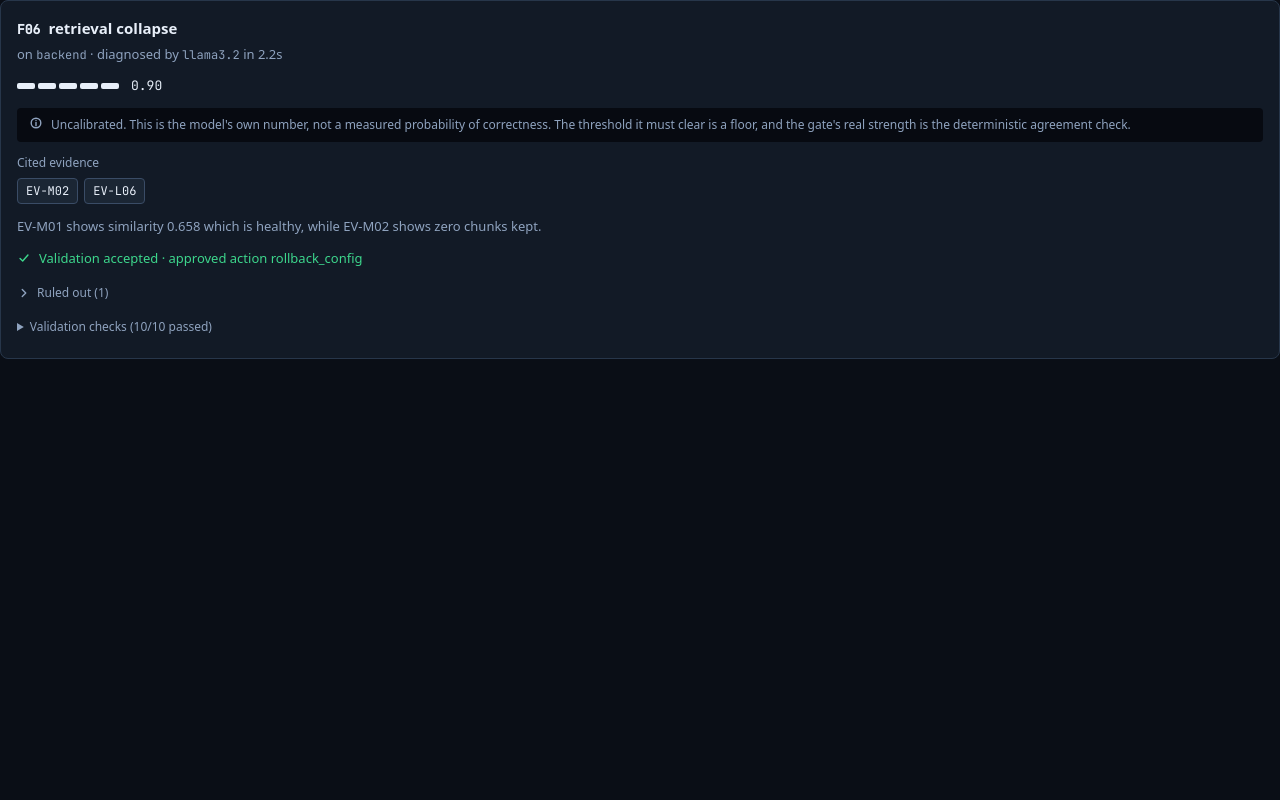
it: diagnosis card › renders the validation verdict and the ten checks
Expected: the text "Validation accepted · approved action rollback_config" is shown, [17, 249, 363, 267]
What coordinates should you click on to do the following:
click the heading "Validation checks (10/10 passed)"
I would click on:
 (121, 326)
Its box is [30, 318, 212, 335].
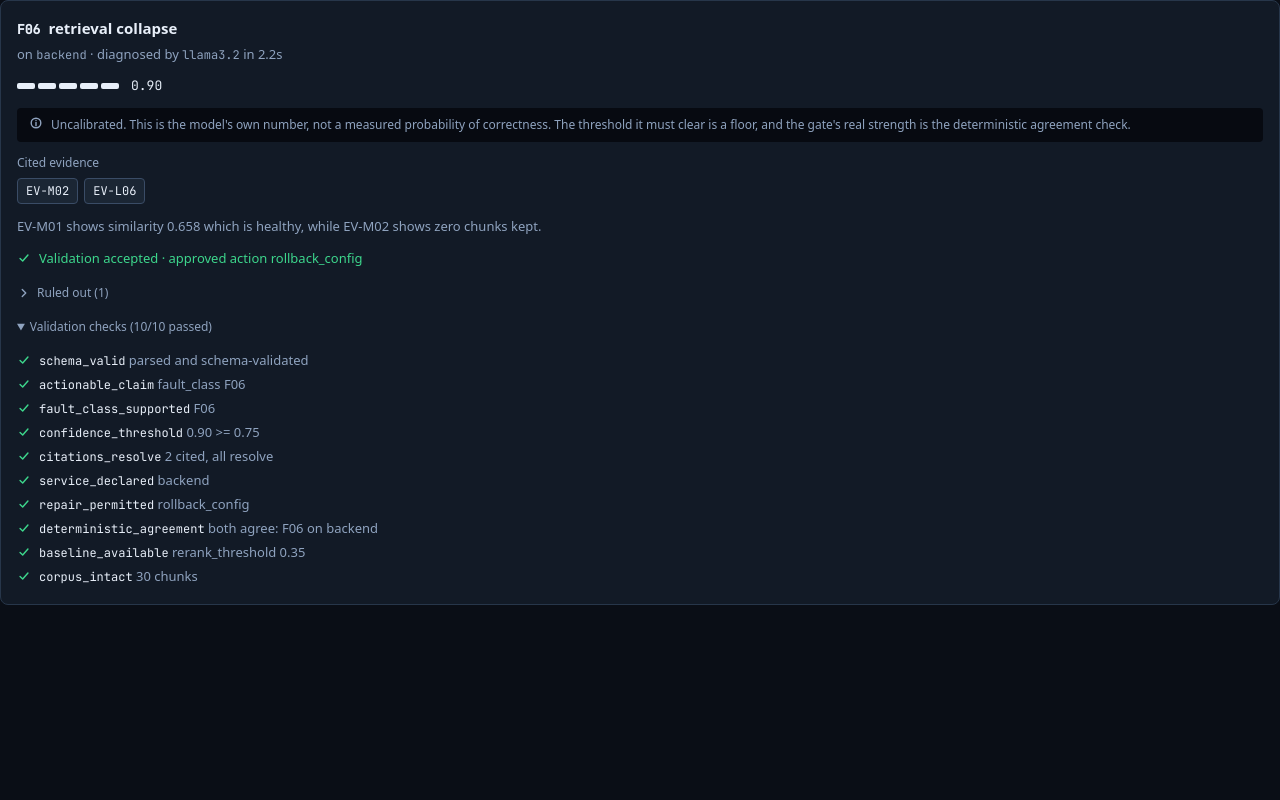
Expected: the text "deterministic_agreement" is shown, [39, 521, 205, 537]
